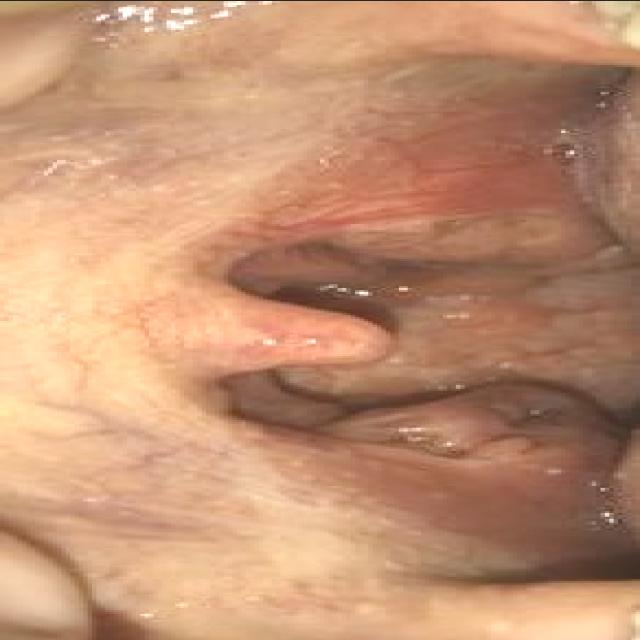Non Pharyngitis: (290, 150, 628, 282), (326, 371, 629, 468)
